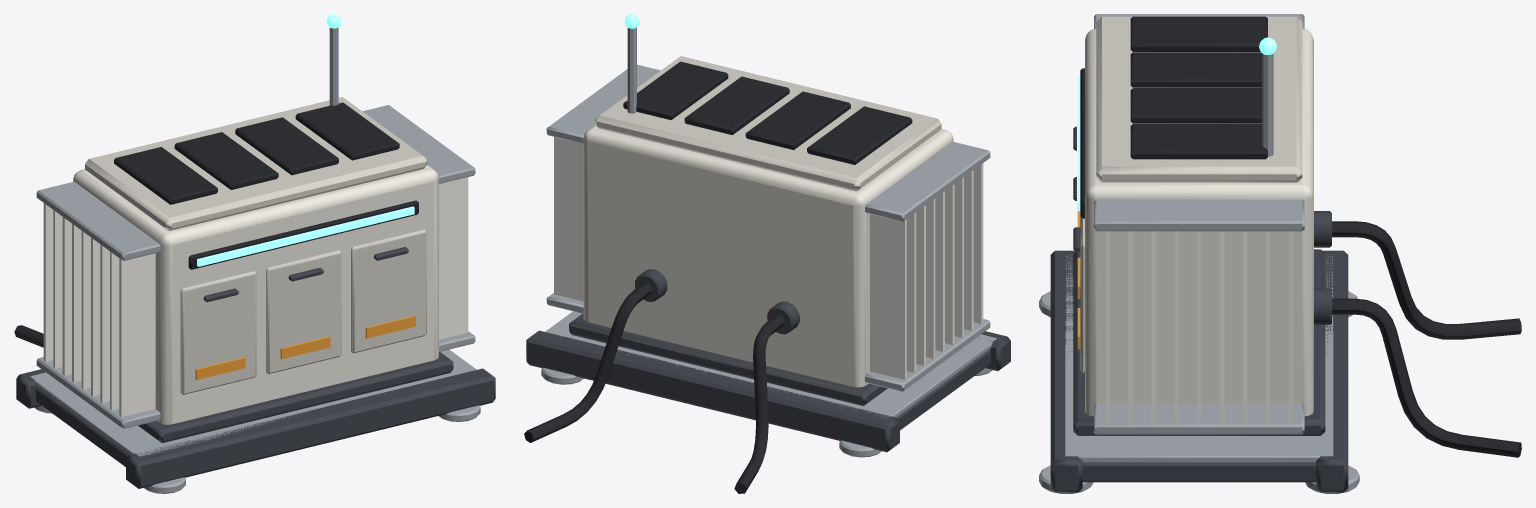
File: power_unit_v4.glb
3 views of the same model, side by side, from view 1: azimuth 30°, elevation 25°; view 2: azimuth 150°, elevation 25°; view 3: azimuth 270°, elevation 25° (orthographic). The views are drawn at different scales.
Visible parts, largest first — view 1: body; view 2: body; view 3: body.
Part boxes in pixels (x1,y1,x2,y2): body: [14, 14, 495, 493]; body: [524, 14, 1010, 493]; body: [1039, 14, 1521, 493].
Bounding box in the file's own units: 2.2 × 2.03 × 2.11.
